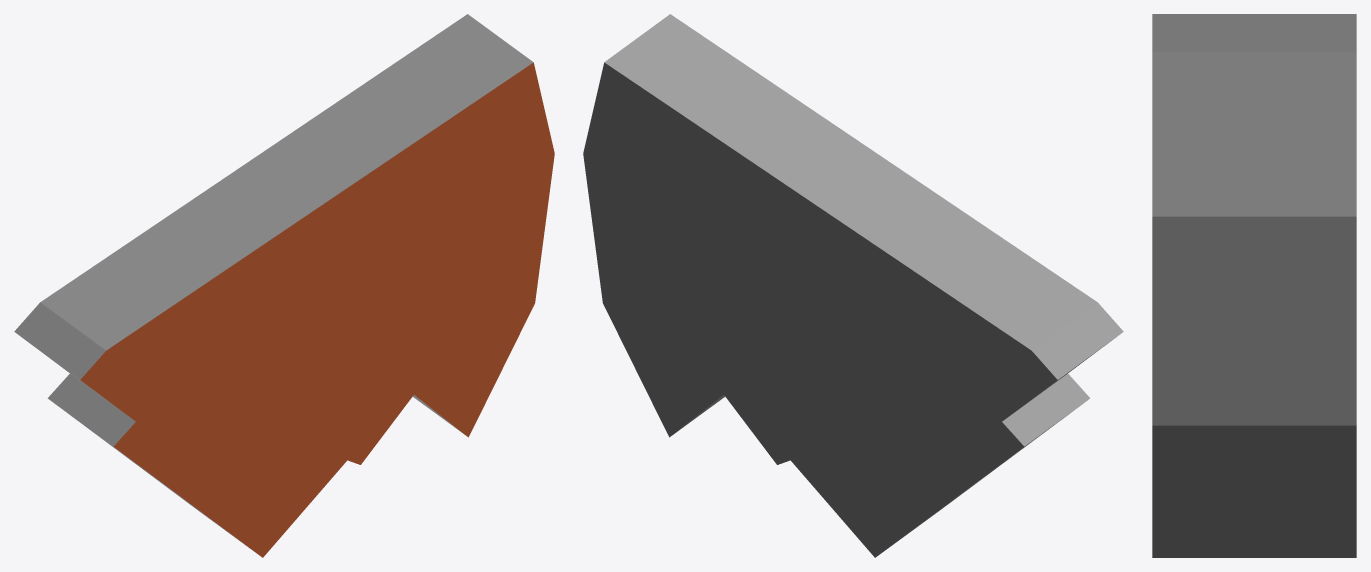
Rendered from construction_5189_assumed_A_Casa_h6m.obj.
3 views of the same model, side by side, from view 1: azimuth 30°, elevation 25°; view 2: azimuth 150°, elevation 25°; view 3: azimuth 270°, elevation 25° (orthographic). The views are drawn at different scales.
Visible parts, largest first — view 1: construction_5189_assumed_A_Casa; view 2: construction_5189_assumed_A_Casa; view 3: construction_5189_assumed_A_Casa.
Boxes of the visible parts, left/top/right/bottom form: construction_5189_assumed_A_Casa: left=14, top=14, right=554, bottom=557; construction_5189_assumed_A_Casa: left=583, top=14, right=1123, bottom=557; construction_5189_assumed_A_Casa: left=1152, top=14, right=1356, bottom=557.
Size of the model in its own units: 24.89 by 21.52 by 6.
